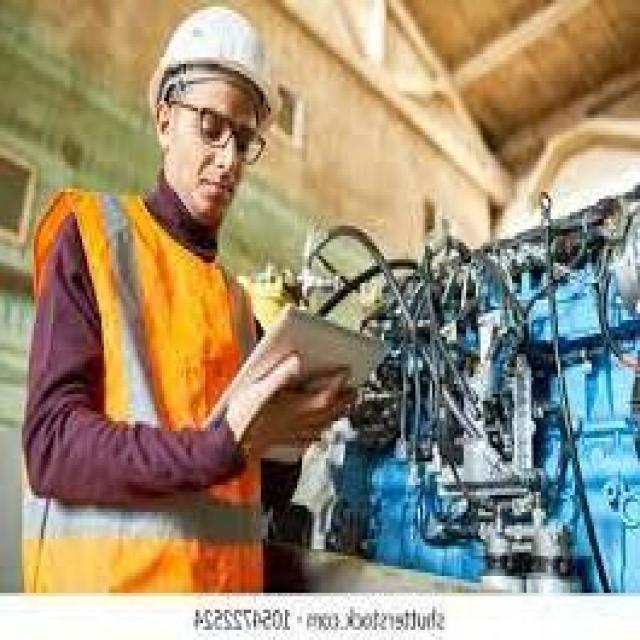reflective_jacket: (14, 175, 275, 599)
safety_helmet: (142, 0, 287, 131)
